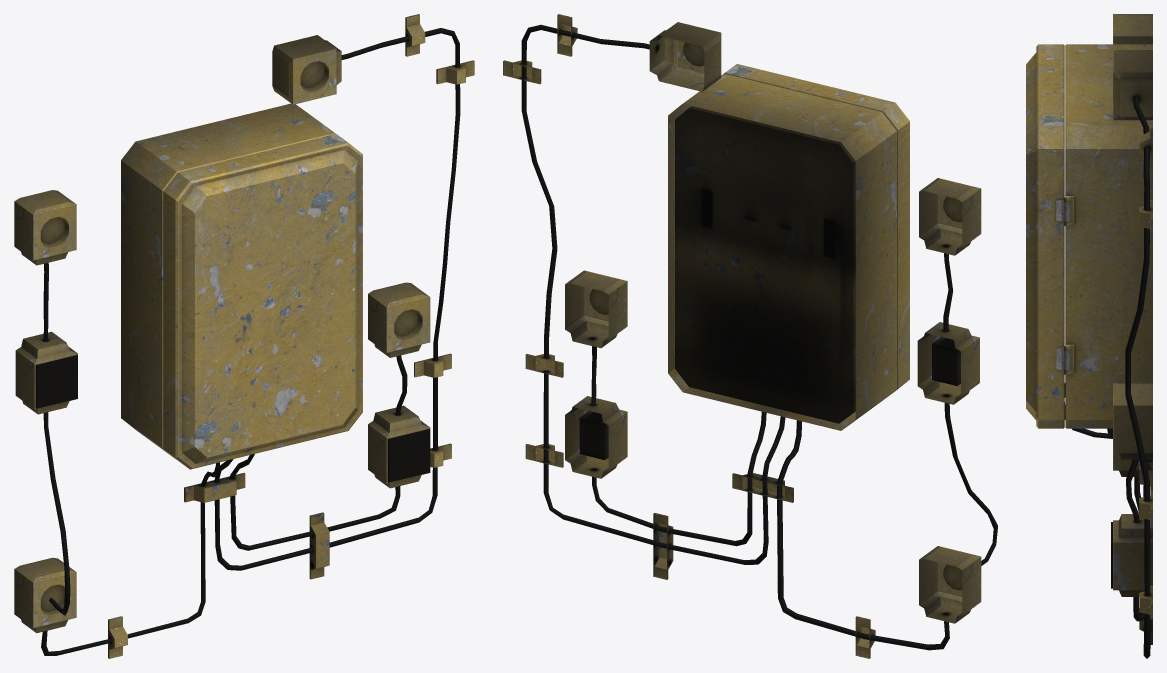
Rendered from 01_05_power_box.dae.
3 renders of one model, left to right at view 1: azimuth 30°, elevation 25°; view 2: azimuth 150°, elevation 25°; view 3: azimuth 270°, elevation 25°, orthographic. The views are drawn at different scales.
Parts seen in each view (by area): view 1: power_box_door, power_box, box_cables, power_box_glass; view 2: power_box, box_cables, power_box_door; view 3: power_box, power_box_door, box_cables.
Part boxes in pixels (x1,y1,x2,y2): power_box_door: (163,134,362,469); power_box: (14,14,474,658); box_cables: (41,28,460,655); power_box_glass: (35,355,430,482); power_box: (503,14,981,658); box_cables: (521,24,997,650); power_box_door: (724,64,909,396); power_box: (1064,14,1152,644); power_box_door: (1026,44,1064,428); box_cables: (1064,97,1150,658).
Bounding box in the file's own units: 1.7 × 2.02 × 0.3866.
